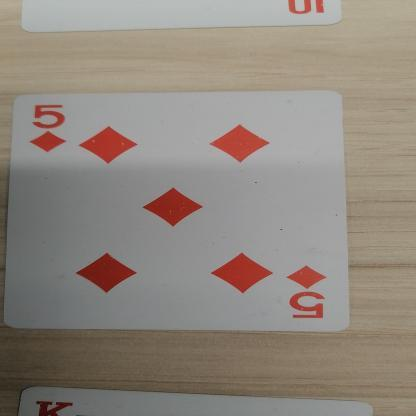5D: (7, 101, 71, 168), (281, 261, 344, 327)
